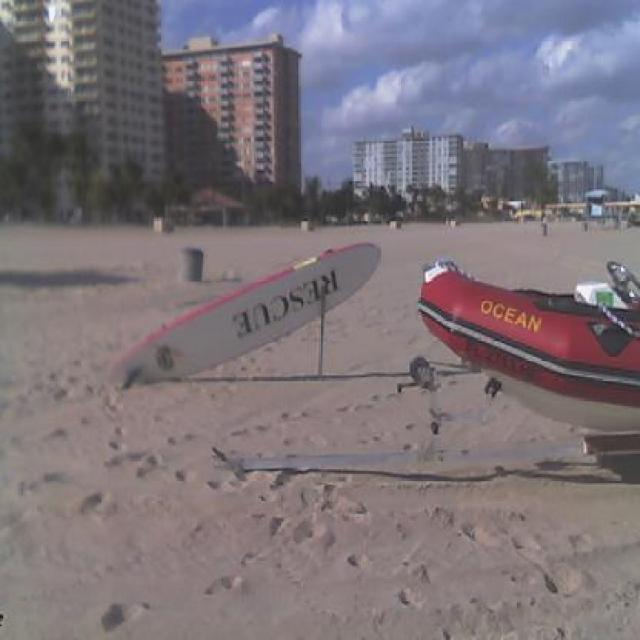ship: (413, 258, 635, 436)
